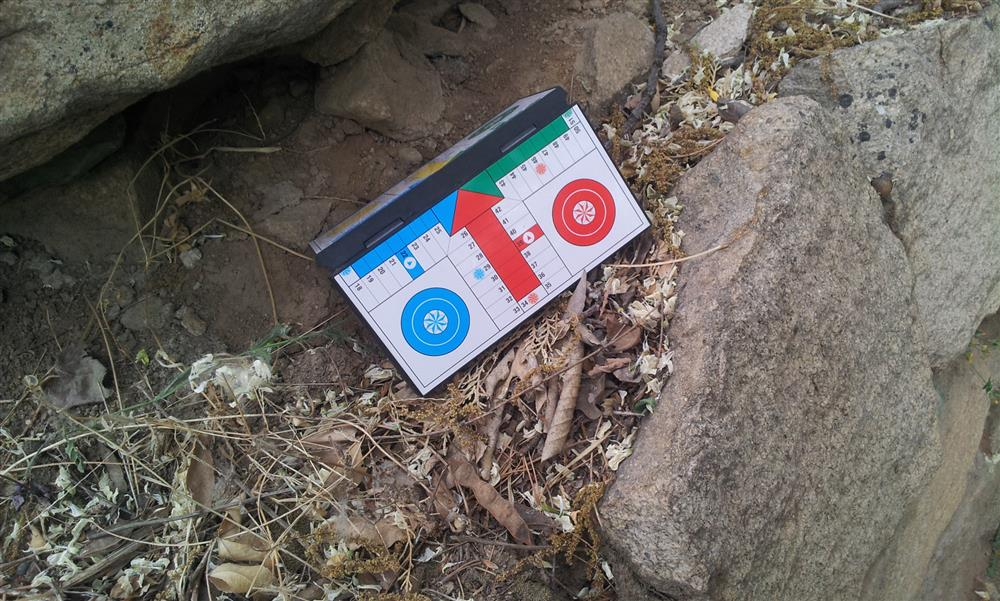parchis: (301, 81, 656, 407)
